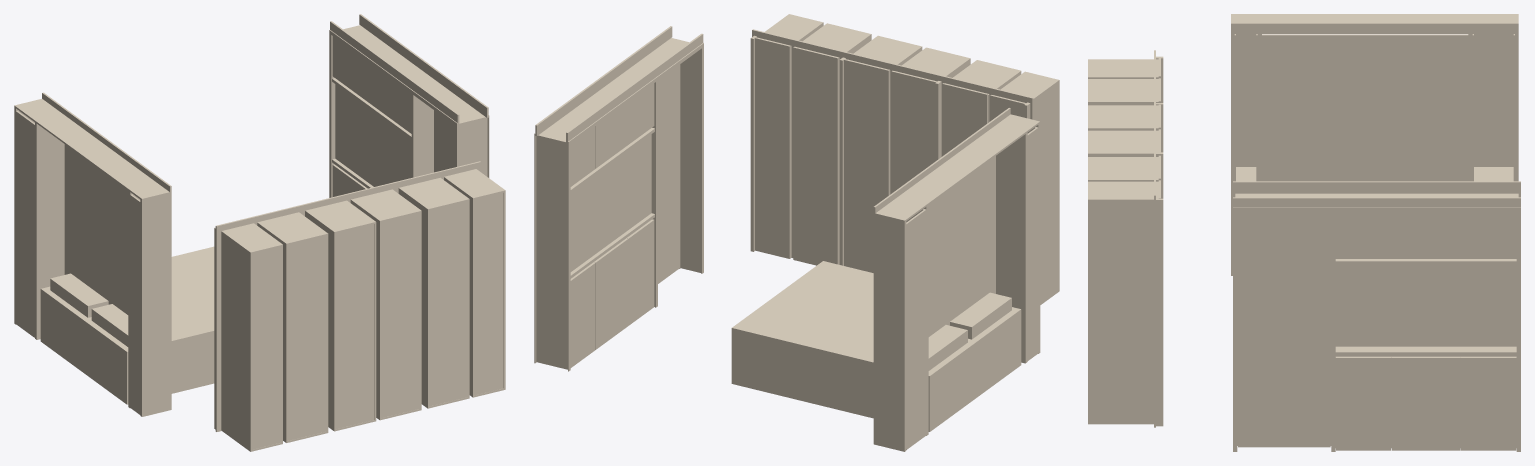
The model's file is 26A011_camera_master.glb.
3 views of the same model, side by side, from view 1: azimuth 30°, elevation 25°; view 2: azimuth 150°, elevation 25°; view 3: azimuth 270°, elevation 25° (orthographic). The views are drawn at different scales.
Visible parts, largest first — view 1: letto_master__PANNELLO_TESTATA, armadio_master__AMC_90_SCHIENA, armadio_master__AMB_84_SCHIENA, armadio_master__AMC_90_SCHIENA_002, armadio_master__AMB_84_SCHIENA_002, letto_master__MONTANTE_massello, letto_master__MATERASSO, armadio_master__AMA_74_FIANCO_DX, armadio_master__AMA_78_SCHIENA, armadio_master__AMA_78_SCHIENA_002, parete_div_master__DVT_166_PANNELLO_TV_CAMERA, letto_master__MONTANTE_massello_003 (+37 smaller); view 2: letto_master__MATERASSO, armadio_master__AME_108_ANTA, letto_master__PANNELLO_TESTATA, letto_master__LETTO_contenitore, armadio_master__AMD_105_ANTA, armadio_master__AMF_111_ANTA, letto_master__MONTANTE_massello_004, parete_div_master__DVT_117_FIANCO_DX, parete_div_master__DVT_166_PANNELLO_TV_CAMERA, letto_master__MONTANTE_massello_002, parete_div_master__DVP_112_FIANCO_SX, armadio_master__AMC_91_ANTA (+40 smaller); view 3: letto_master__PANNELLO_TESTATA, parete_div_master__DVP_115_PANNELLO_PORTA, parete_div_master__DVT_165_PANNELLO_TV_LIVING, armadio_master__AMF_110_FIANCO_SX, parete_div_master__DVT_131_ANTA_BASSA_CEN, parete_div_master__DVT_132_ANTA_BASSA_DX, letto_master__COLONNA_DX_SCHIENA, parete_div_master__DVT_130_ANTA_BASSA_SX, parete_div_master__DV_138_FASCIONE, letto_master__FASCIA_ALTA, parete_div_master__DVT_134_ANTA_ALTA_CEN, parete_div_master__DV_138_FASCIONE_002 (+27 smaller).
Boxes of the visible parts, x1=… form: letto_master__PANNELLO_TESTATA: x1=64, y1=144, x2=128, y2=314; armadio_master__AMC_90_SCHIENA: x1=336, y1=224, x2=374, y2=429; armadio_master__AMB_84_SCHIENA: x1=288, y1=236, x2=326, y2=440; armadio_master__AMC_90_SCHIENA_002: x1=381, y1=213, x2=419, y2=417; armadio_master__AMB_84_SCHIENA_002: x1=429, y1=201, x2=467, y2=406; letto_master__MONTANTE_massello: x1=140, y1=193, x2=171, y2=416; letto_master__MATERASSO: x1=40, y1=246, x2=214, y2=371; armadio_master__AMA_74_FIANCO_DX: x1=221, y1=231, x2=252, y2=451; armadio_master__AMA_78_SCHIENA: x1=252, y1=247, x2=281, y2=449; armadio_master__AMA_78_SCHIENA_002: x1=474, y1=192, x2=503, y2=395; parete_div_master__DVT_166_PANNELLO_TV_CAMERA: x1=335, y1=84, x2=411, y2=186; letto_master__MONTANTE_massello_003: x1=35, y1=122, x2=64, y2=339; letto_master__MATERASSO: x1=731, y1=261, x2=1021, y2=396; armadio_master__AME_108_ANTA: x1=793, y1=46, x2=838, y2=265; letto_master__PANNELLO_TESTATA: x1=928, y1=156, x2=995, y2=336; letto_master__LETTO_contenitore: x1=731, y1=330, x2=1021, y2=431; armadio_master__AMD_105_ANTA: x1=844, y1=59, x2=889, y2=272; armadio_master__AMF_111_ANTA: x1=755, y1=37, x2=790, y2=258; letto_master__MONTANTE_massello_004: x1=873, y1=215, x2=906, y2=451; parete_div_master__DVT_117_FIANCO_DX: x1=536, y1=134, x2=567, y2=369; parete_div_master__DVT_166_PANNELLO_TV_CAMERA: x1=570, y1=134, x2=651, y2=271; letto_master__MONTANTE_massello_002: x1=996, y1=133, x2=1027, y2=363; parete_div_master__DVP_112_FIANCO_SX: x1=671, y1=38, x2=701, y2=272; armadio_master__AMC_91_ANTA: x1=891, y1=70, x2=936, y2=193; letto_master__PANNELLO_TESTATA: x1=1261, y1=34, x2=1468, y2=181; parete_div_master__DVP_115_PANNELLO_PORTA: x1=1238, y1=212, x2=1330, y2=447; parete_div_master__DVT_165_PANNELLO_TV_LIVING: x1=1335, y1=264, x2=1516, y2=346; armadio_master__AMF_110_FIANCO_SX: x1=1088, y1=198, x2=1153, y2=424; parete_div_master__DVT_131_ANTA_BASSA_CEN: x1=1392, y1=357, x2=1460, y2=450; parete_div_master__DVT_132_ANTA_BASSA_DX: x1=1460, y1=357, x2=1516, y2=450; letto_master__COLONNA_DX_SCHIENA: x1=1474, y1=34, x2=1513, y2=166; parete_div_master__DVT_130_ANTA_BASSA_SX: x1=1336, y1=357, x2=1391, y2=450; parete_div_master__DV_138_FASCIONE: x1=1233, y1=181, x2=1520, y2=193; letto_master__FASCIA_ALTA: x1=1231, y1=22, x2=1518, y2=33; parete_div_master__DVT_134_ANTA_ALTA_CEN: x1=1392, y1=212, x2=1460, y2=258; parete_div_master__DV_138_FASCIONE_002: x1=1233, y1=197, x2=1520, y2=207.
Size of the model in its own units: 3.73 by 2.3 by 3.56.
